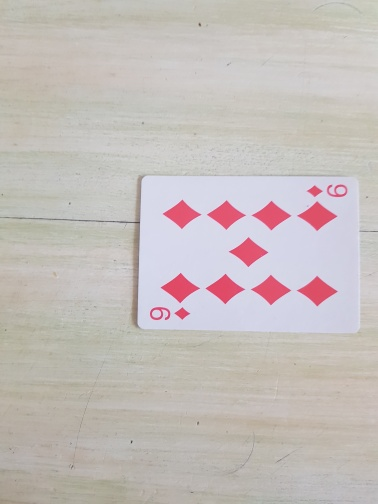nine: (136, 175, 362, 333)
